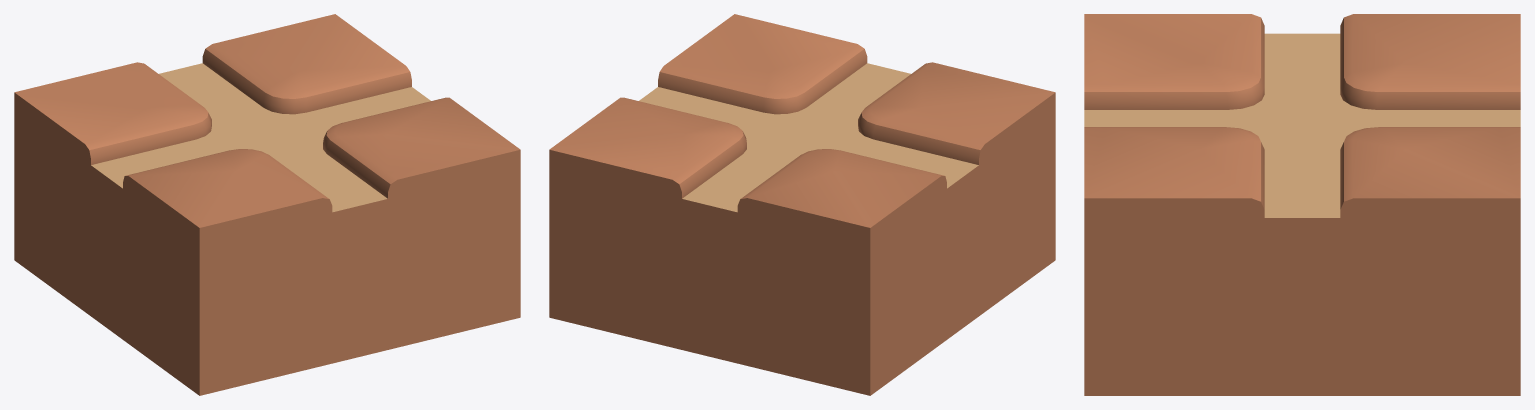
File: kaykit-square-rock-roade.glb
3 views of the same model, side by side, from view 1: azimuth 30°, elevation 25°; view 2: azimuth 150°, elevation 25°; view 3: azimuth 270°, elevation 25° (orthographic). The views are drawn at different scales.
Visible parts, largest first — view 1: square_rock_roadE; view 2: square_rock_roadE; view 3: square_rock_roadE.
Part boxes in pixels (x1,y1,x2,y2): square_rock_roadE: (14, 14, 520, 395); square_rock_roadE: (549, 14, 1055, 395); square_rock_roadE: (1084, 14, 1520, 395).
Bounding box in the file's own units: 2 × 0.9998 × 2.
